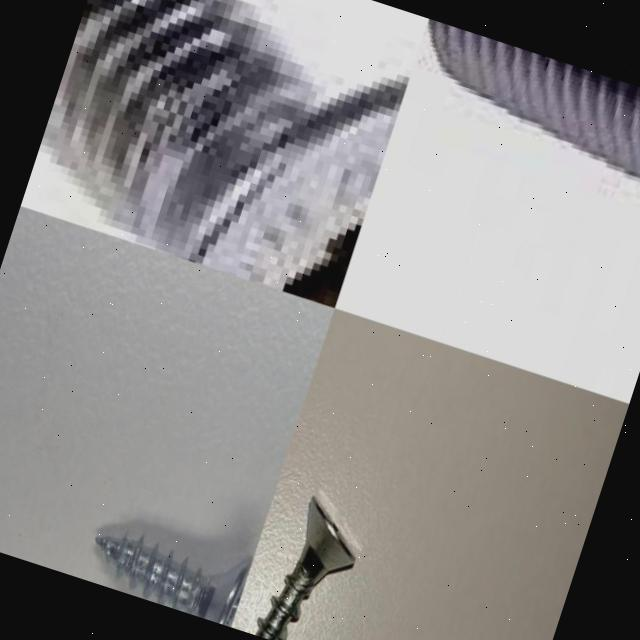Screw: (40, 0, 409, 308), (425, 19, 640, 182), (96, 535, 253, 628), (255, 496, 356, 640)
